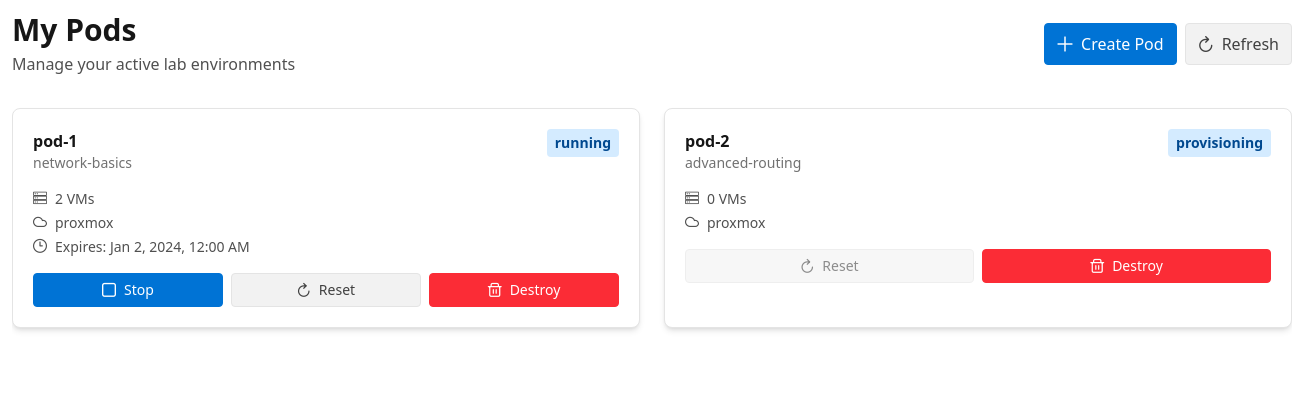
Test: PodsView › error handling › should display error on destroy failure
Click the 2nd button "Destroy". click: [524, 290]
box: x1=429 y1=273 x2=619 y2=307
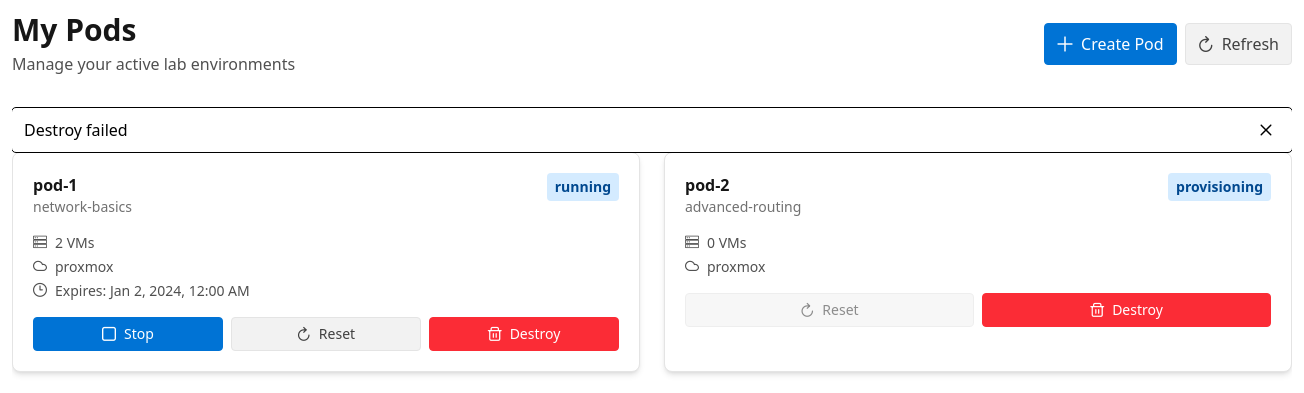
Result: the text "Destroy failed" is shown at x1=24 y1=118 x2=128 y2=142
